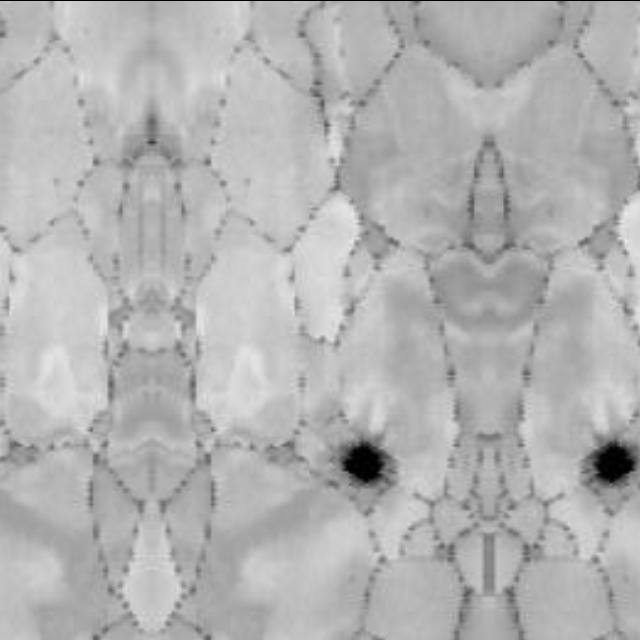good_void: (332, 434, 389, 486), (588, 434, 640, 486)
